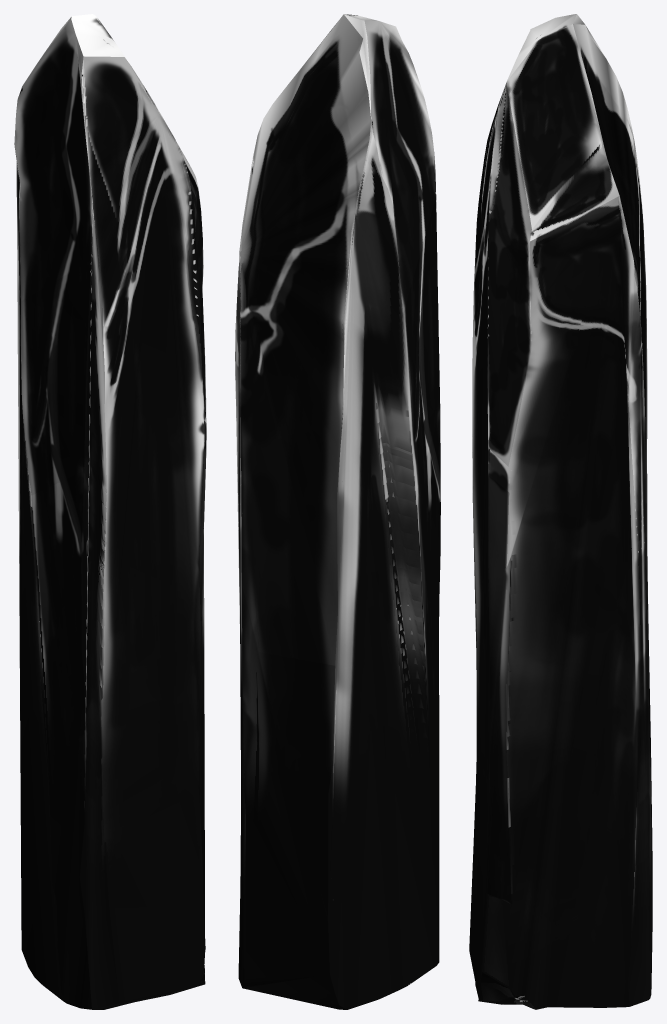
File: Crystal_01.fbx
The picture shows the model from 3 angles, left to right: view 1: azimuth 30°, elevation 25°; view 2: azimuth 150°, elevation 25°; view 3: azimuth 270°, elevation 25°; orthographic projection.
Visible parts, largest first — view 1: cube_NewUVs; view 2: cube_NewUVs; view 3: cube_NewUVs.
Boxes of the visible parts, x1,y1,x2,y2 form: cube_NewUVs: (14, 14, 206, 1009); cube_NewUVs: (235, 14, 440, 1009); cube_NewUVs: (469, 14, 652, 1009).
Bounding box in the file's own units: 1067 × 1046 × 6074.
1 material, 1 textured.
